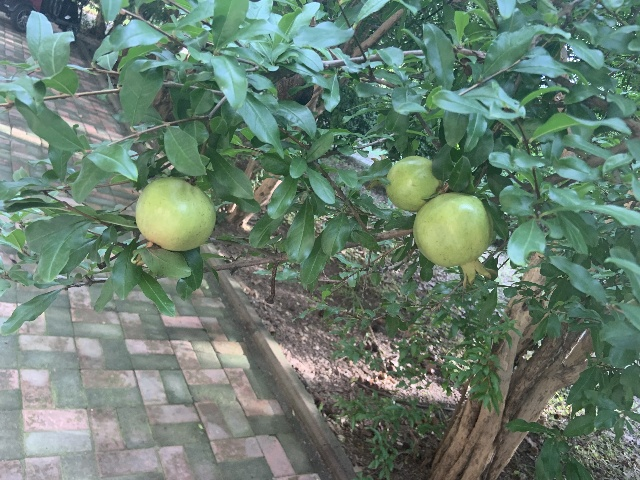mid-growth: (413, 191, 496, 287), (134, 176, 215, 267), (385, 155, 443, 210)
